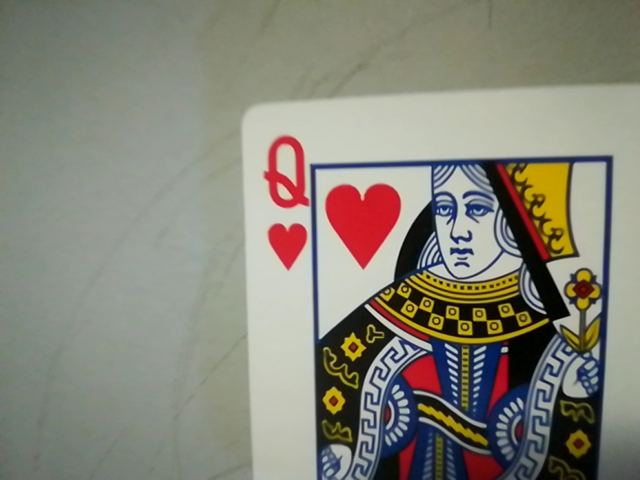hx q: (253, 126, 315, 273)
